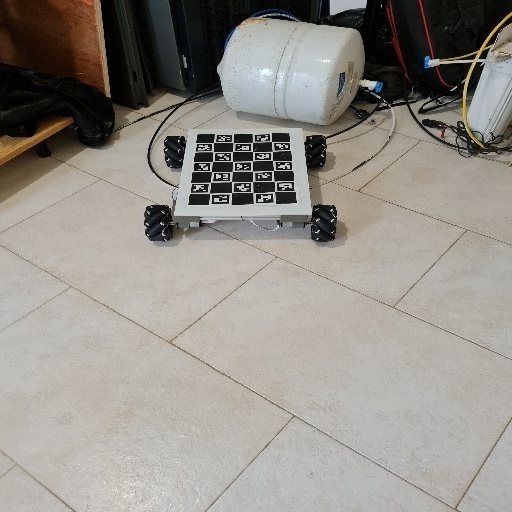Omniwheel: (143, 127, 338, 244)
